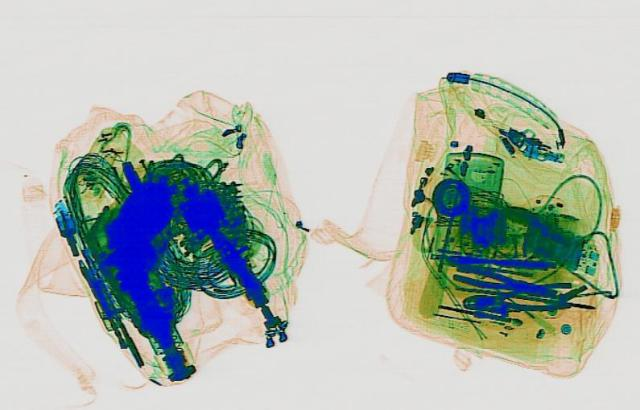Pliers: (447, 261, 561, 301), (460, 280, 574, 313)
